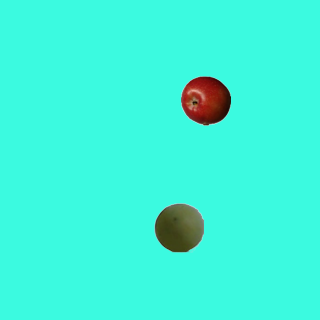Apple Braeburn: (180, 75, 230, 125)
Grape White 4: (153, 202, 203, 252)
